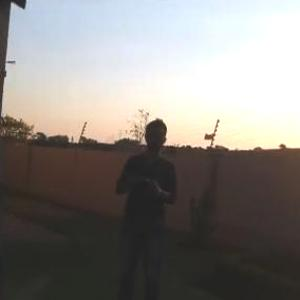follow: (109, 112, 187, 299)
